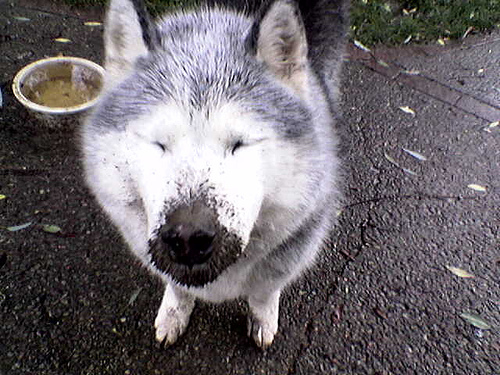dog: (72, 0, 350, 353)
